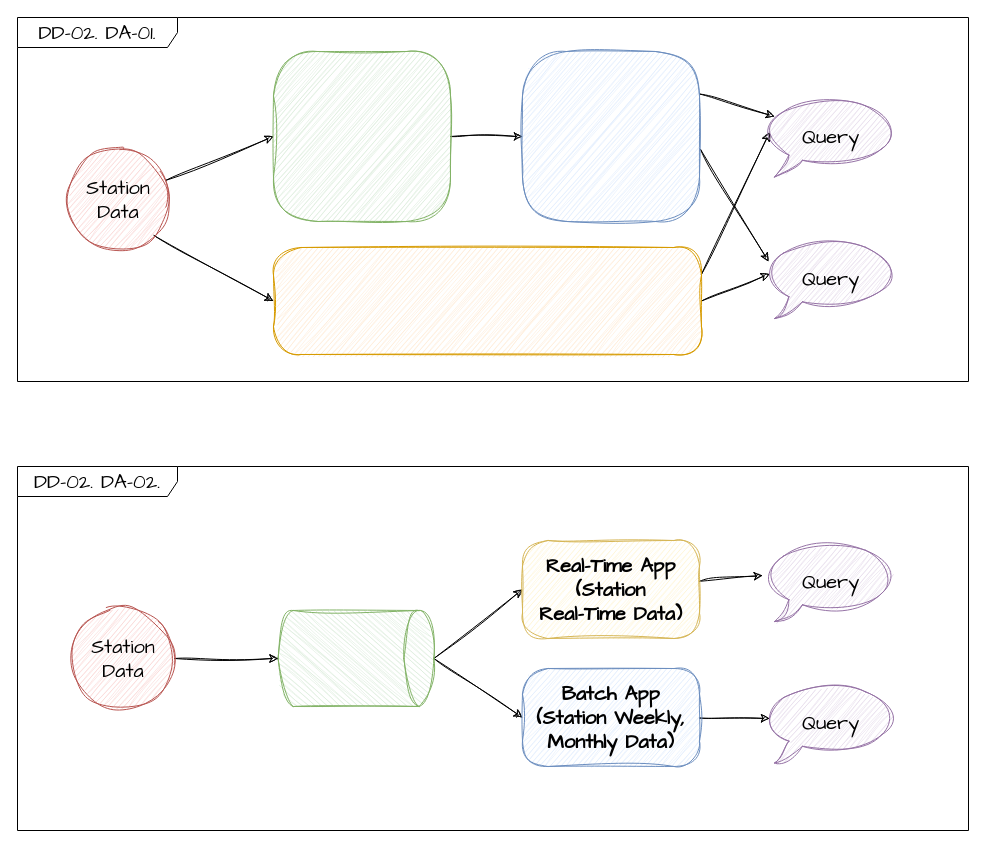
This 986x848 diagram has some shape labels left out. Each missing label, with the centre of its shape:
Batch Layer: pixel 361 136
Real-Time Layer: pixel 355 658
Serving Layer (Station Weekly Data, Monthly Data): pixel 611 136
Speed Layer (Station Real-Time Data): pixel 487 300
